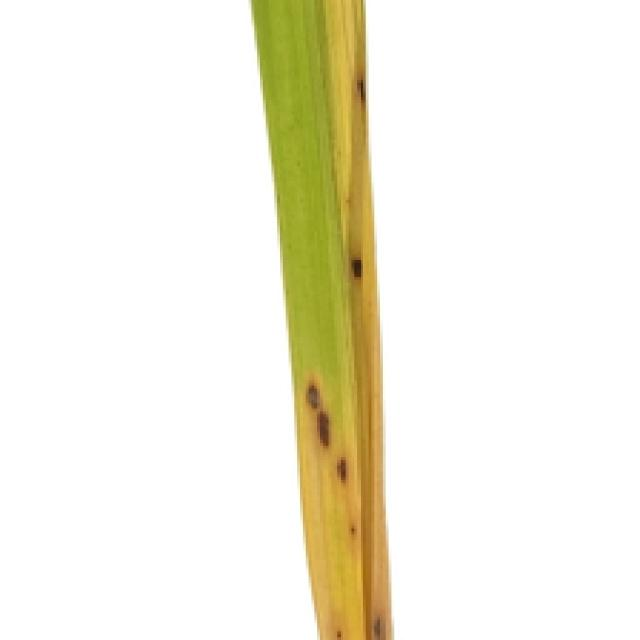Rice___Rice_Blast: (252, 0, 395, 637)
